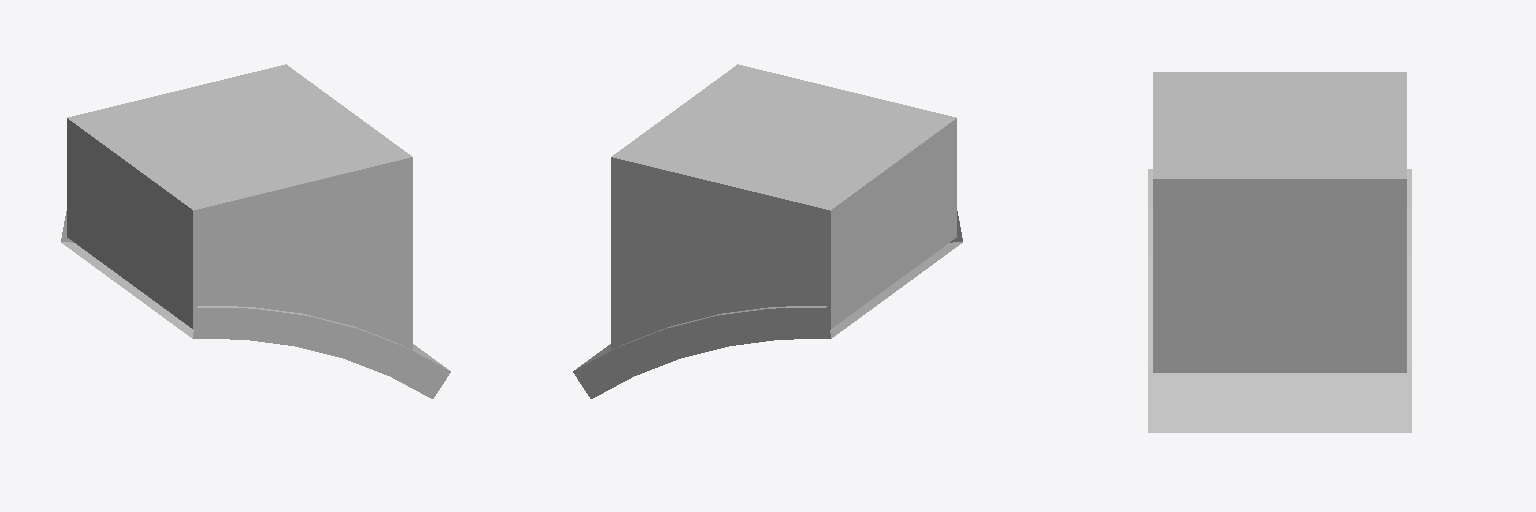
Rendered from lapis_five_arch_top.obj.
The picture shows the model from 3 angles: view 1: azimuth 30°, elevation 25°; view 2: azimuth 150°, elevation 25°; view 3: azimuth 270°, elevation 25°; orthographic projection.
Visible parts, largest first — view 1: Top_Arch_Cube.011; view 2: Top_Arch_Cube.011; view 3: Top_Arch_Cube.011.
Part boxes in pixels (x1,y1,x2,y2): Top_Arch_Cube.011: (61,64,450,398); Top_Arch_Cube.011: (573,64,962,398); Top_Arch_Cube.011: (1148,72,1411,432).
Bounding box in the file's own units: 1.18 × 1.07 × 1.04.